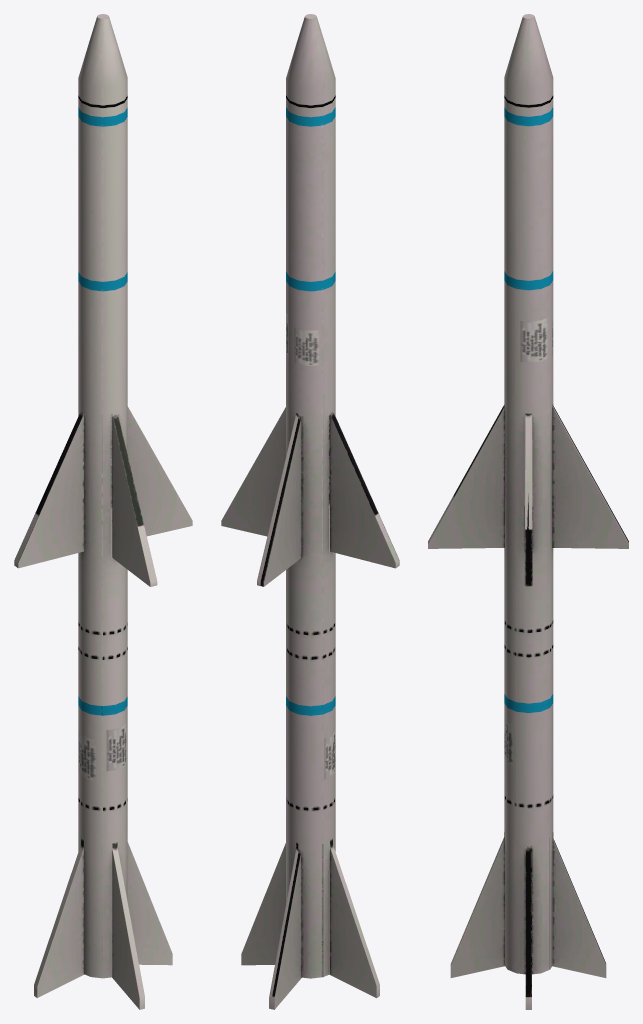
File: Missile.FBX
3 views of the same model, side by side, from view 1: azimuth 30°, elevation 25°; view 2: azimuth 150°, elevation 25°; view 3: azimuth 270°, elevation 25° (orthographic).
Visible parts, largest first — view 1: Cylinder01; view 2: Cylinder01; view 3: Cylinder01.
Boxes of the visible parts, x1,y1,x2,y2 form: Cylinder01: (14,14,192,1009); Cylinder01: (221,14,399,1009); Cylinder01: (428,14,628,1009).
Bounding box in the file's own units: 1.21 × 6.36 × 1.21.
1 material, 1 textured.
